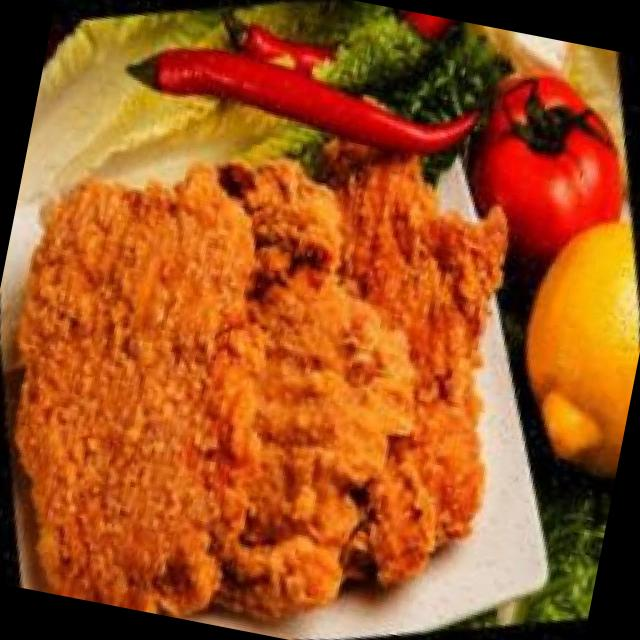fried_chicken: (0, 45, 624, 640)
